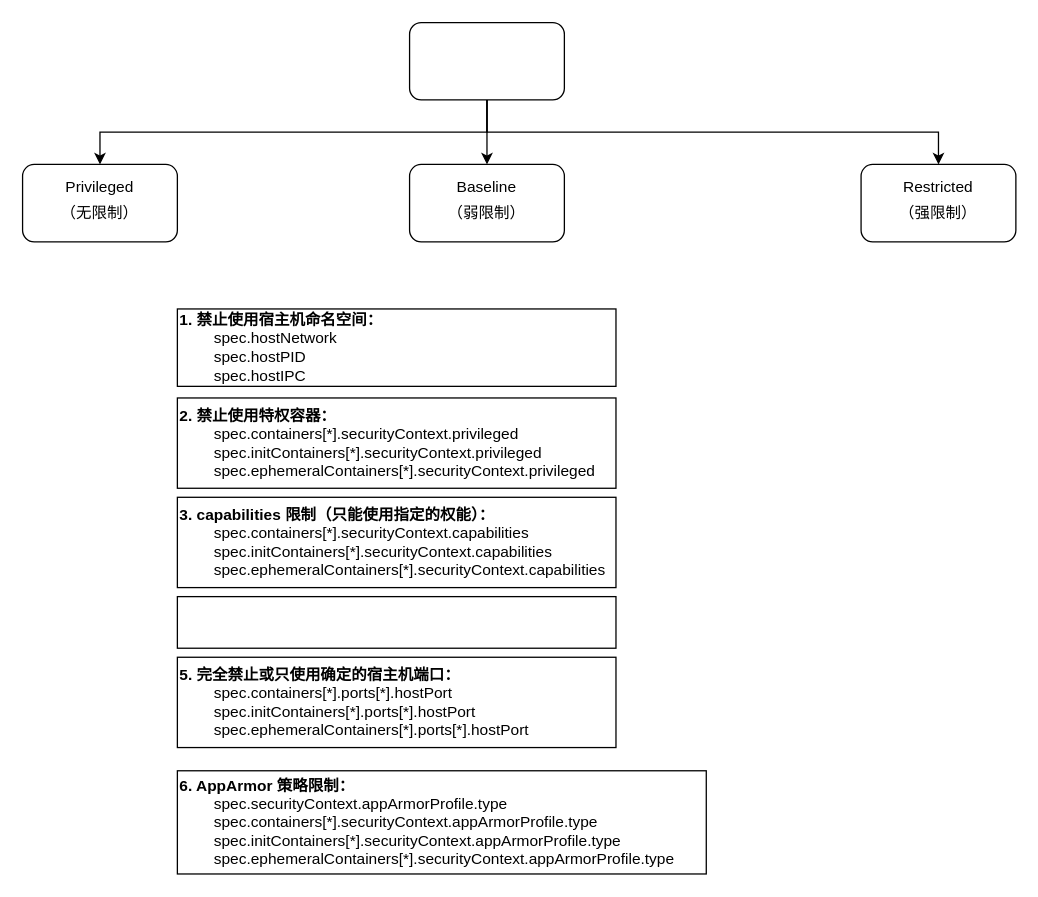
This 1038x897 diagram has some shape labels left out. Here are the shapes that lost their labels. From the top down, the box of each, then its label:
(408, 21, 564, 100): Pod 安全性标准
(176, 595, 616, 648): 4. 禁止使用 HostPath 卷： spec.volumes[*].hostPath
